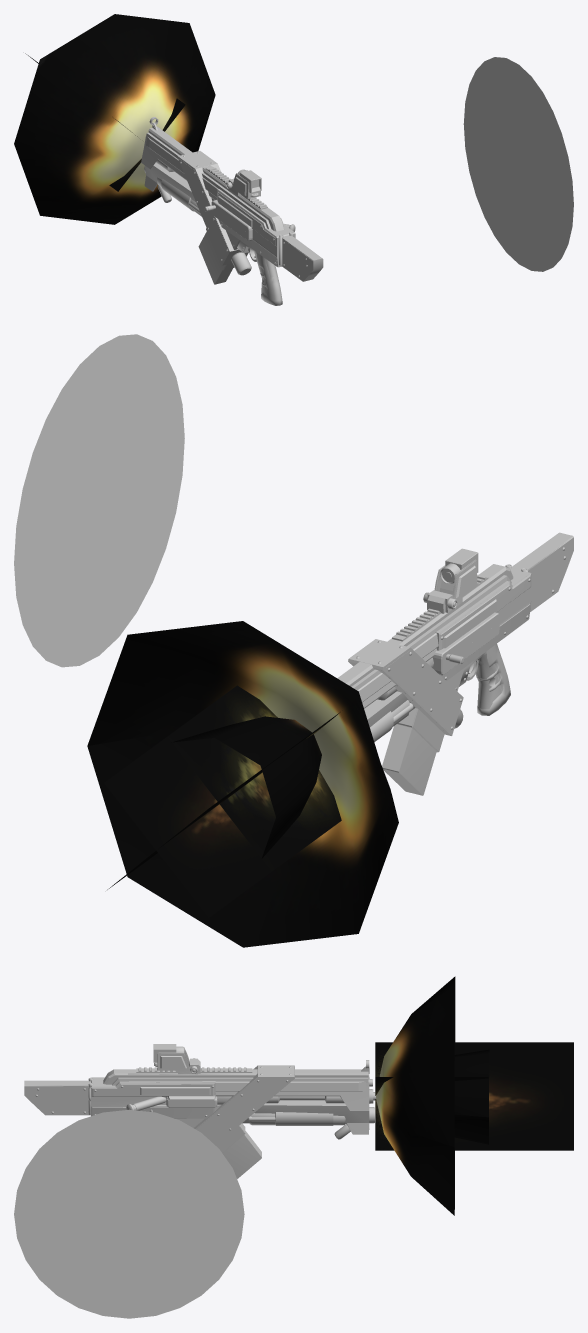
File: TP_Lurker_AutodeskFBX2011.fbx
3 views of the same model, one above another, from view 1: azimuth 30°, elevation 25°; view 2: azimuth 150°, elevation 25°; view 3: azimuth 270°, elevation 25° (orthographic). The views are drawn at different scales.
Visible parts, largest first — view 1: Lurker_MuzzleFlash3_LOD300, Lurker_MuzzleControl, Gun_LOD300, Gun_LOD200, Gun_LOD100; view 2: Lurker_MuzzleFlash3_LOD300, Lurker_MuzzleControl, Lurker_MuzzleFlash1_LOD300, Gun_LOD300, Gun_LOD100, Gun_LOD200; view 3: Lurker_MuzzleControl, Gun_LOD200, Lurker_MuzzleFlash1_LOD300, Lurker_MuzzleFlash3_LOD300, Gun_LOD300, Gun_LOD100.
Part boxes in pixels (left/top/right/bottom): Lurker_MuzzleFlash3_LOD300: left=14, top=14, right=215, bottom=224; Lurker_MuzzleControl: left=463, top=57, right=573, bottom=271; Gun_LOD300: left=141, top=117, right=323, bottom=305; Gun_LOD200: left=147, top=117, right=323, bottom=305; Gun_LOD100: left=177, top=151, right=322, bottom=293; Lurker_MuzzleFlash3_LOD300: left=87, top=621, right=398, bottom=947; Lurker_MuzzleControl: left=14, top=334, right=184, bottom=667; Lurker_MuzzleFlash1_LOD300: left=104, top=716, right=321, bottom=917; Gun_LOD300: left=337, top=532, right=573, bottom=795; Gun_LOD100: left=348, top=544, right=562, bottom=751; Gun_LOD200: left=350, top=533, right=572, bottom=795; Lurker_MuzzleControl: left=14, top=1109, right=244, bottom=1318; Gun_LOD200: left=24, top=1044, right=369, bottom=1178; Lurker_MuzzleFlash1_LOD300: left=375, top=1042, right=573, bottom=1150; Lurker_MuzzleFlash3_LOD300: left=375, top=976, right=488, bottom=1215; Gun_LOD300: left=24, top=1044, right=375, bottom=1156; Gun_LOD100: left=25, top=1063, right=294, bottom=1152.
Size of what is drawn, in the model's own units: 44.06 by 25.77 by 58.52.
